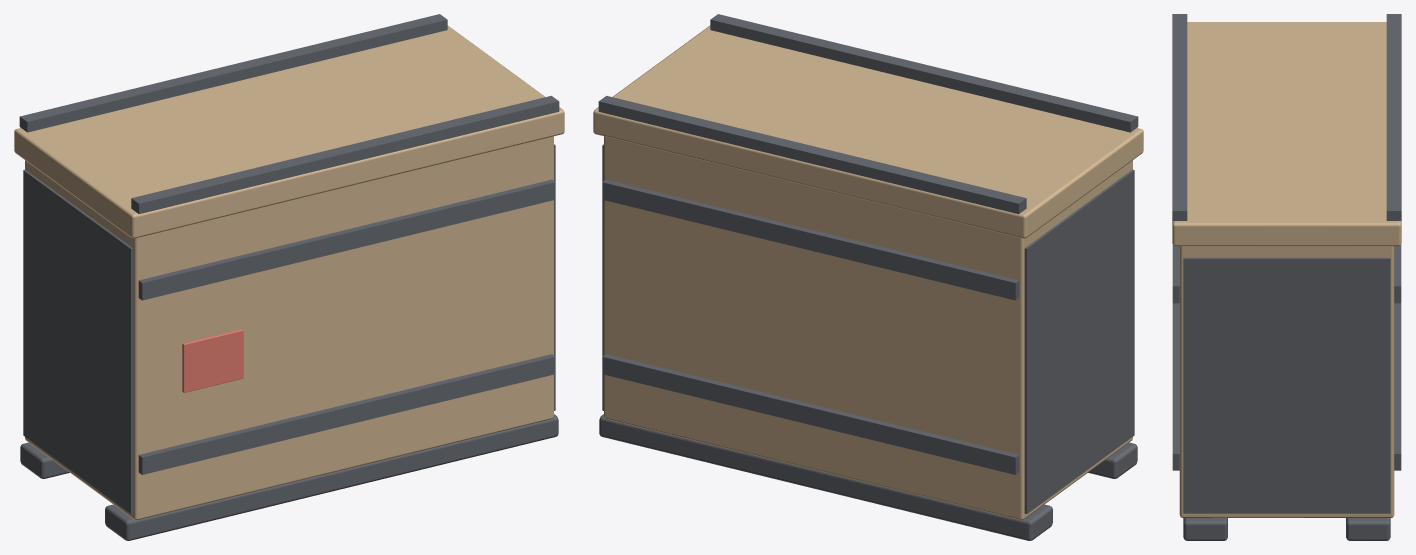
3 renders of one model, left to right at view 1: azimuth 30°, elevation 25°; view 2: azimuth 150°, elevation 25°; view 3: azimuth 270°, elevation 25°, orthographic. The views are drawn at different scales.
Visible parts, largest first — view 1: artwork-crate, lid/oak, lid/ink; view 2: artwork-crate, lid/oak, lid/ink; view 3: artwork-crate, lid/oak, lid/ink.
Part boxes in pixels (x1,y1,x2,y2): artwork-crate: [20, 136, 558, 540]; lid/oak: [14, 25, 564, 238]; lid/ink: [19, 14, 559, 214]; artwork-crate: [599, 136, 1137, 540]; lid/oak: [593, 25, 1143, 238]; lid/ink: [598, 14, 1138, 214]; artwork-crate: [1172, 245, 1401, 540]; lid/oak: [1172, 22, 1401, 246]; lid/ink: [1172, 14, 1401, 220].
Bounding box in the file's own units: 1.3 × 0.98 × 0.6199.
